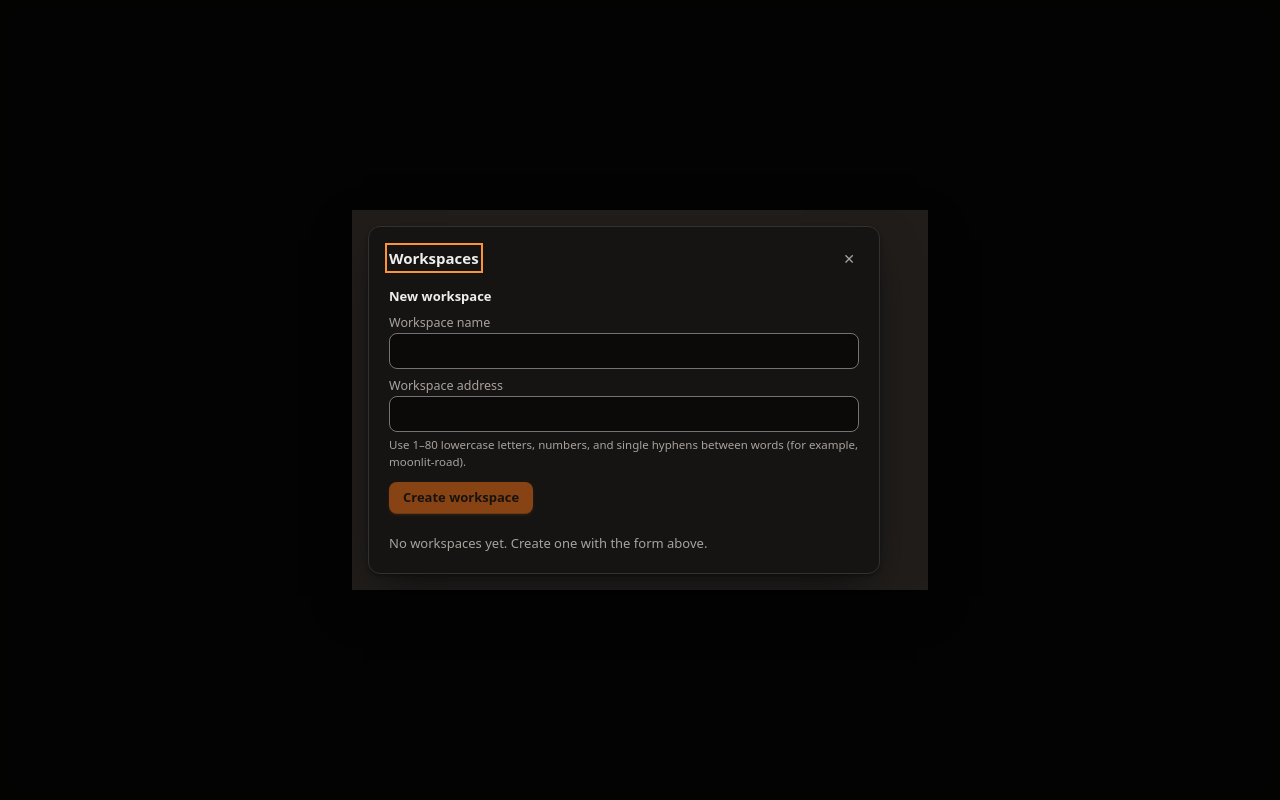
Test case: workspace manager dialog › maps a slug conflict to the actionable 409 copy
The width and height of the screenshot is (1280, 800).
In the field with test id "ws-new-name": [624, 351] box [389,333,859,369], type "Alpha"
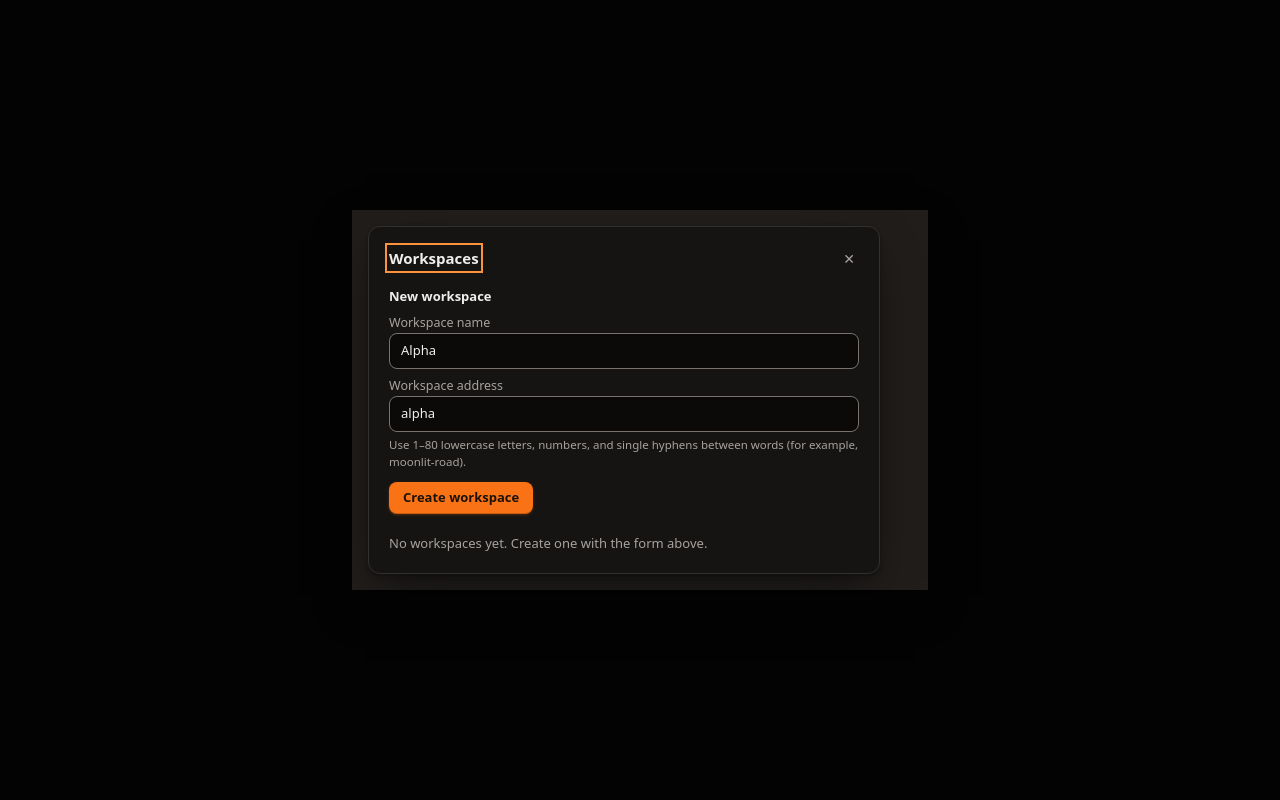
Submit the form, box [389,287,859,514]
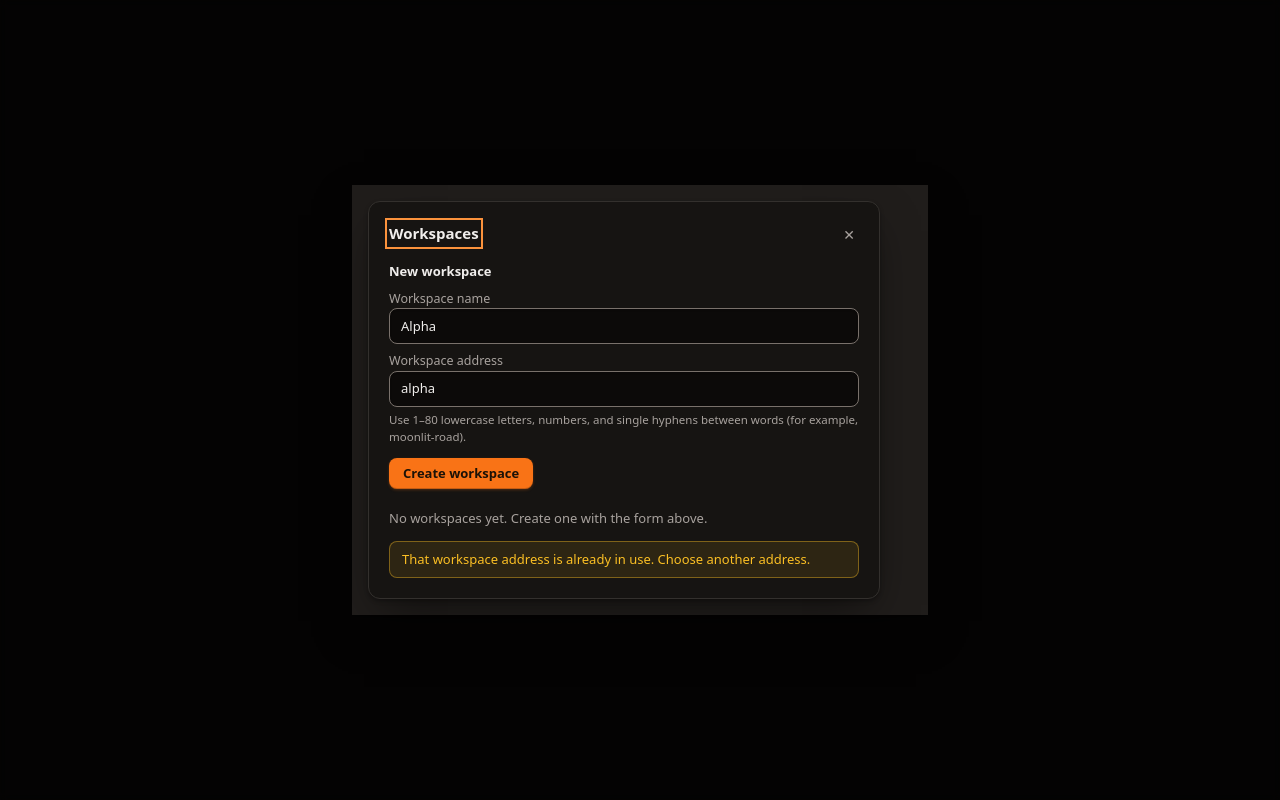
Expected: the message with test id "ws-error" reads "That workspace address is already in use. Choose another address.", [402,550,810,568]
